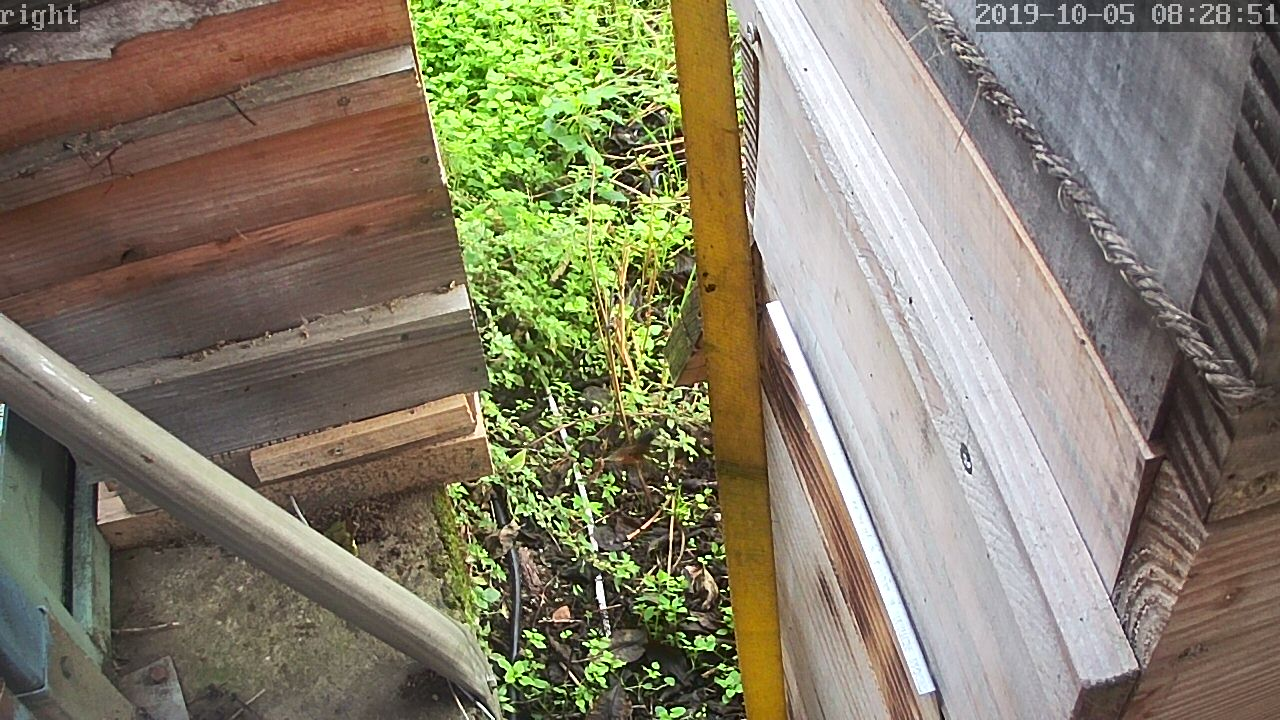hornet: (592, 426, 647, 473), (653, 252, 692, 300)
